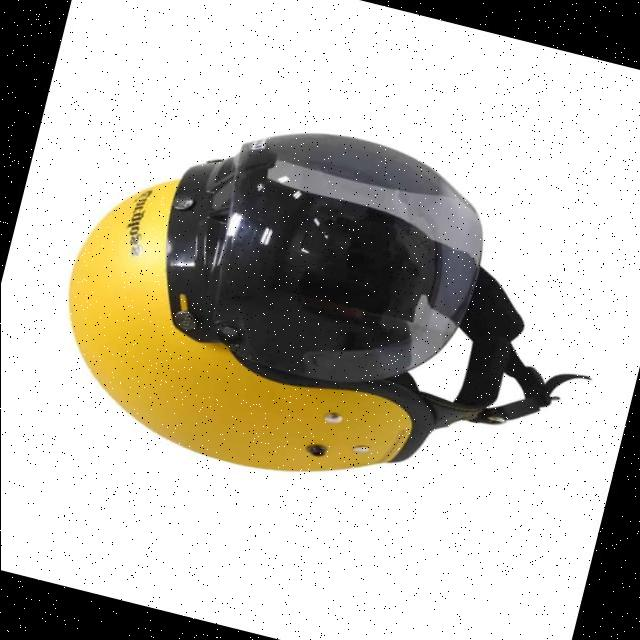Helm: (25, 69, 628, 544)
